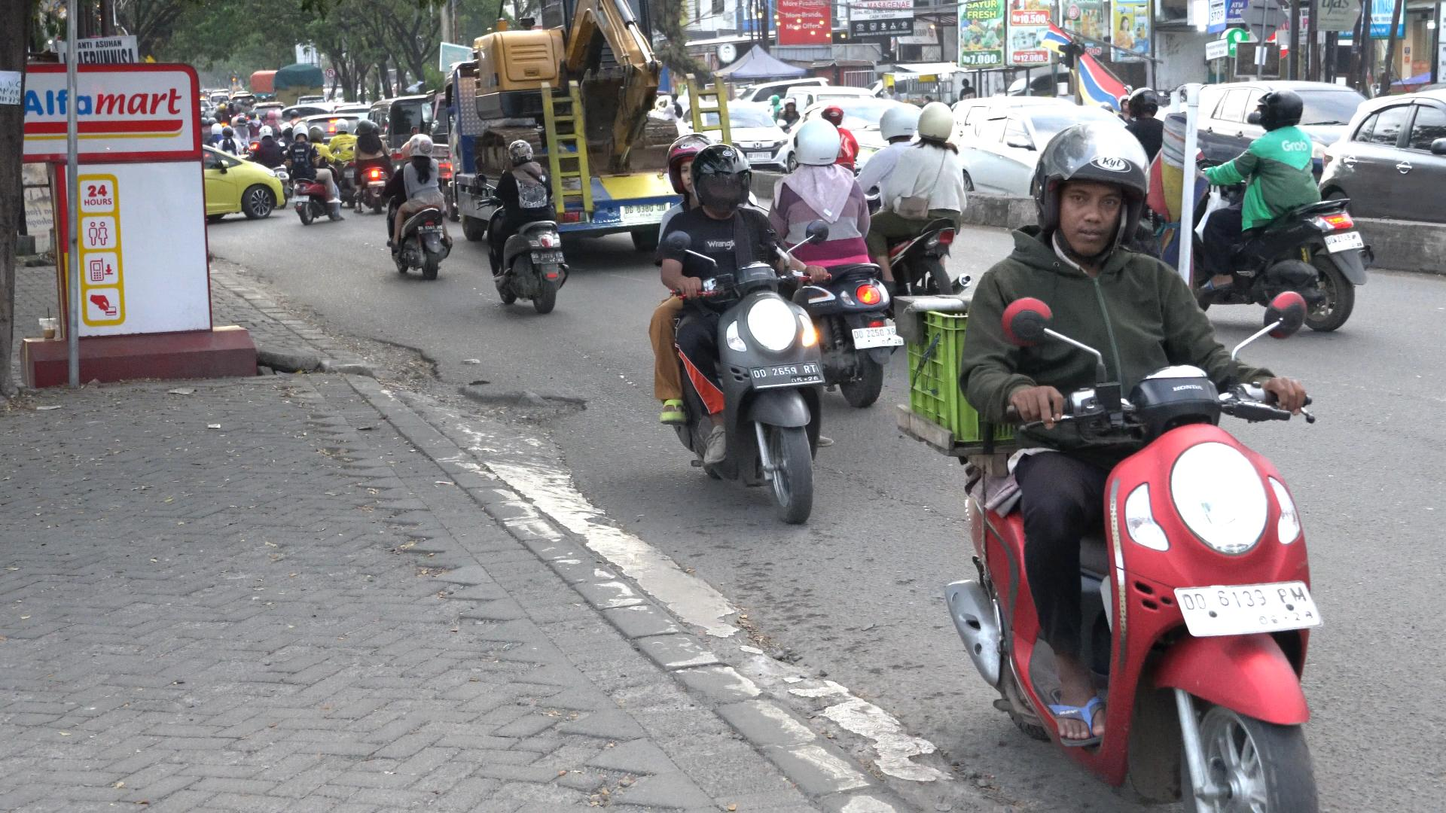number-plate: (1177, 574, 1325, 641), (748, 361, 828, 387)
